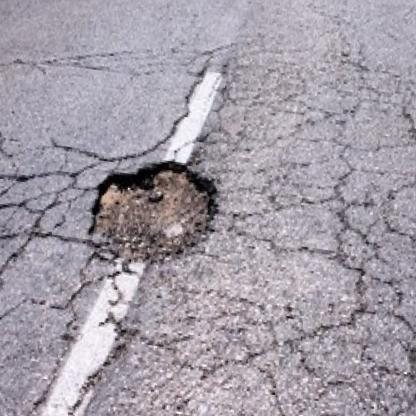pothole: (84, 149, 227, 275)
